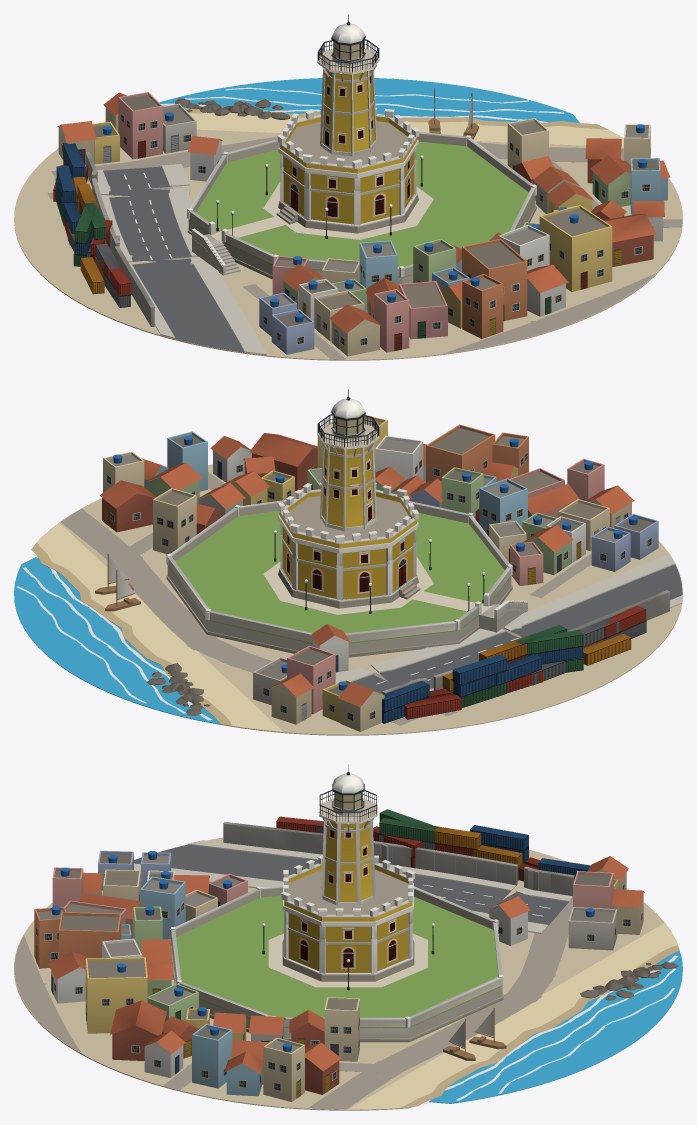
File: farolMucuripe-pecas.glb
3 renders of one model, top to bottom at view 1: azimuth 30°, elevation 25°; view 2: azimuth 150°, elevation 25°; view 3: azimuth 270°, elevation 25°, orthographic.
Visible parts, largest first — view 1: Casario_Serviluz, Chao_Pisos, Farol_Velho, Chao_Plato, Chao_Base, Mar, Porto_Mucuripe, Recinto_Murado, Praia_Pedras_Jangadas; view 2: Casario_Serviluz, Chao_Pisos, Farol_Velho, Chao_Plato, Chao_Base, Porto_Mucuripe, Recinto_Murado, Mar, Praia_Pedras_Jangadas; view 3: Casario_Serviluz, Chao_Pisos, Chao_Plato, Farol_Velho, Porto_Mucuripe, Mar, Chao_Base, Recinto_Murado, Praia_Pedras_Jangadas.
Boxes of the visible parts, <box> form: Casario_Serviluz: <box>57,92,670,356</box>; Chao_Pisos: <box>47,107,682,359</box>; Farol_Velho: <box>276,14,419,233</box>; Chao_Plato: <box>189,141,534,277</box>; Chao_Base: <box>14,121,682,360</box>; Mar: <box>159,78,587,123</box>; Porto_Mucuripe: <box>53,143,154,326</box>; Recinto_Murado: <box>187,132,536,284</box>; Praia_Pedras_Jangadas: <box>175,88,478,139</box>; Casario_Serviluz: <box>99,415,658,731</box>; Chao_Pisos: <box>31,472,682,731</box>; Farol_Velho: <box>278,389,420,608</box>; Chao_Plato: <box>168,510,510,643</box>; Chao_Base: <box>34,464,682,735</box>; Porto_Mucuripe: <box>382,590,670,723</box>; Recinto_Murado: <box>166,498,528,657</box>; Mar: <box>14,554,220,724</box>; Praia_Pedras_Jangadas: <box>95,553,210,715</box>; Casario_Serviluz: <box>34,850,644,1101</box>; Chao_Pisos: <box>14,840,679,1109</box>; Chao_Plato: <box>172,895,501,1028</box>; Farol_Velho: <box>281,764,415,981</box>; Porto_Mucuripe: <box>223,809,590,896</box>; Mar: <box>424,950,682,1104</box>; Chao_Base: <box>14,837,678,1110</box>; Recinto_Murado: <box>170,885,503,1042</box>; Praia_Pedras_Jangadas: <box>443,961,678,1060</box>.
Size of the model in its own units: 66.79 by 22.59 by 66.78.
28 materials, 1 textured.
